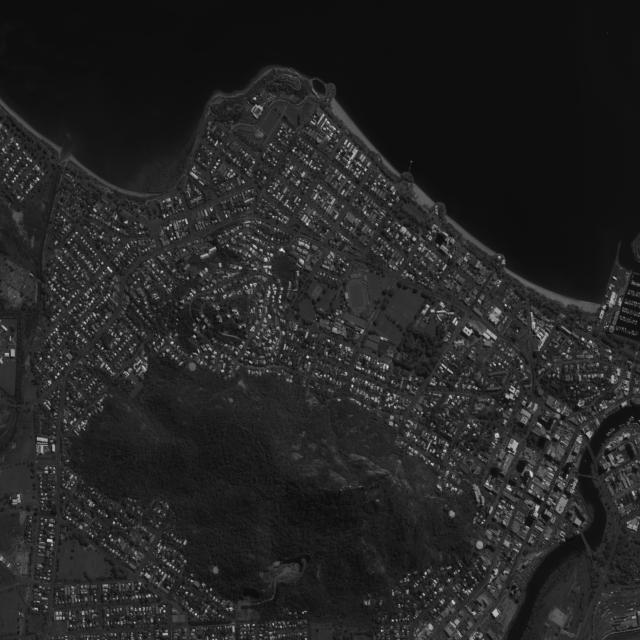storage-tank: (475, 540, 484, 550), (188, 362, 197, 372), (212, 566, 220, 574), (229, 398, 234, 404)
